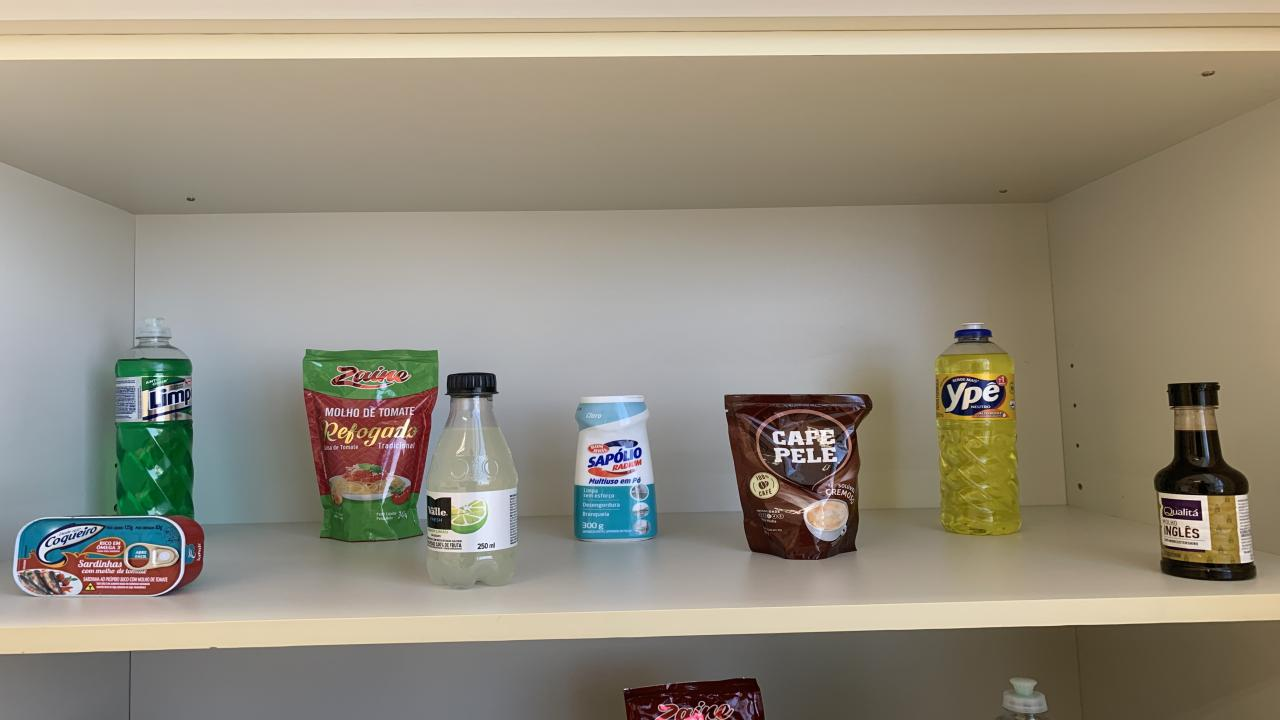Cleaner-Cleanup_Items: (575, 399, 658, 542)
Coffee-Pantry_Items: (725, 394, 872, 559)
Detergent-Cleanup_Items: (935, 324, 1020, 534), (115, 319, 195, 518), (998, 677, 1048, 720)
English_Sauce-Pantry_Items: (1155, 382, 1255, 581)
Soda-Drinks: (428, 373, 518, 589)
Tomato_Sauce-Pantry_Items: (302, 349, 438, 542), (622, 679, 765, 720)
Tuna_Can-Pantry_Items: (12, 516, 205, 596)
